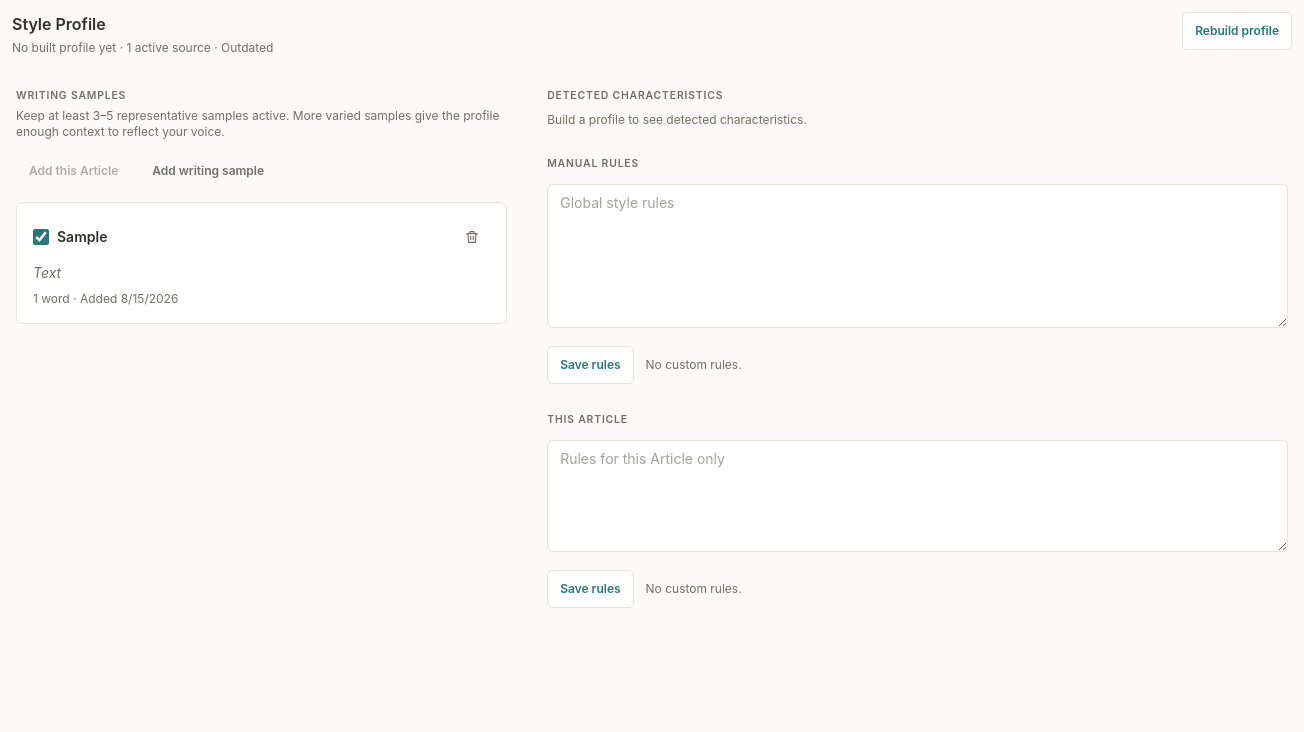
Test: StyleProfileView › shows the profile rebuilt confirmation beside the rebuild action
The image size is (1304, 732).
Click the button "Rebuild profile" at (1237, 31), box [1182,12,1292,50]
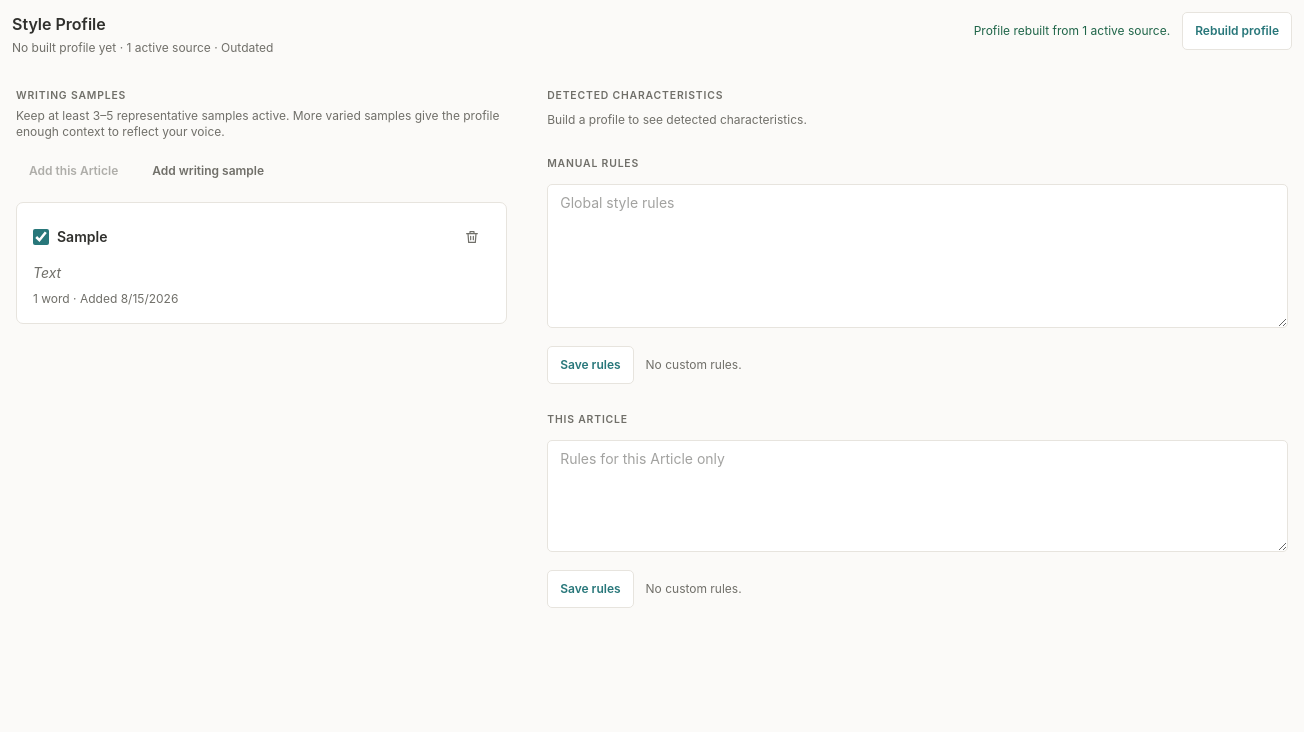
Now the text "Profile rebuilt from 1 active source." is shown, box [974,23,1170,39]
